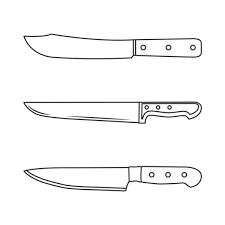Knife: (23, 32, 202, 59), (23, 165, 202, 191), (23, 100, 202, 123)
